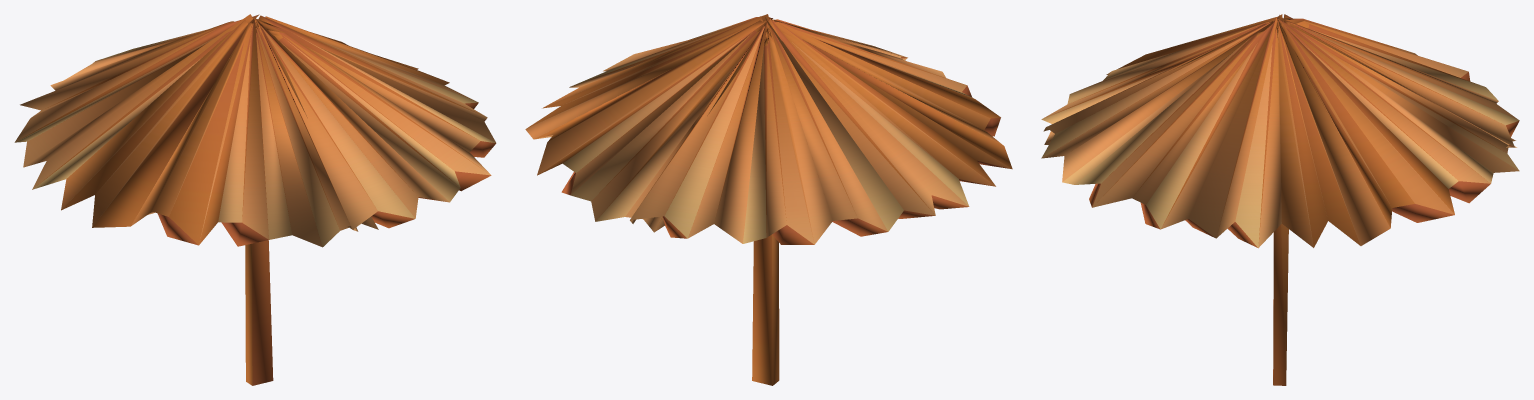
Rendered from GL-Manmade-10.fbx.
3 renders of one model, left to right at view 1: azimuth 30°, elevation 25°; view 2: azimuth 150°, elevation 25°; view 3: azimuth 270°, elevation 25°, orthographic.
Parts seen in each view (by area): view 1: GL-Manmade-10; view 2: GL-Manmade-10; view 3: GL-Manmade-10.
Boxes of the visible parts, x1,y1,x2,y2 form: GL-Manmade-10: [14, 14, 496, 385]; GL-Manmade-10: [525, 14, 1012, 385]; GL-Manmade-10: [1041, 14, 1519, 385].
Size of the model in its own units: 1.45 by 1.19 by 1.42.
